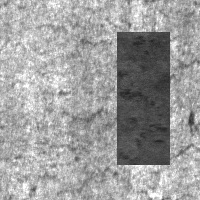crazing: (41, 24, 176, 121), (13, 142, 200, 199)
rolled-in_scale: (117, 32, 170, 165)
